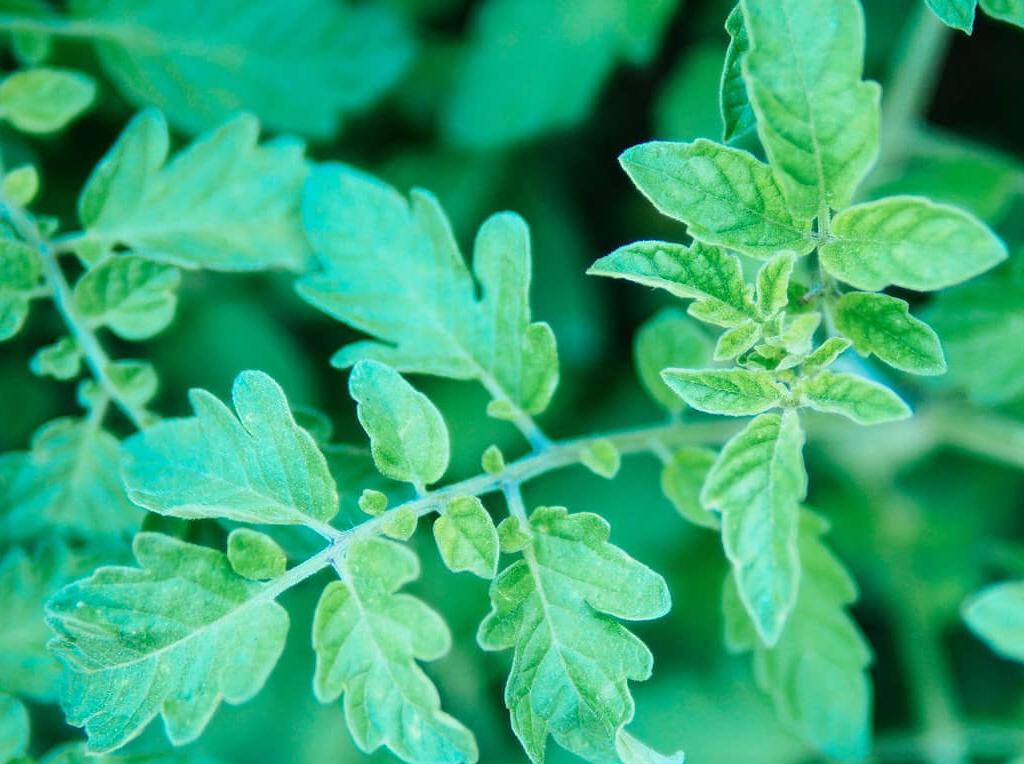Tomato leaf: (303, 154, 565, 444), (42, 527, 295, 760), (478, 486, 684, 764), (104, 367, 344, 544), (323, 516, 461, 764), (599, 126, 829, 260), (750, 0, 880, 235), (704, 395, 816, 648), (821, 197, 1010, 297)
